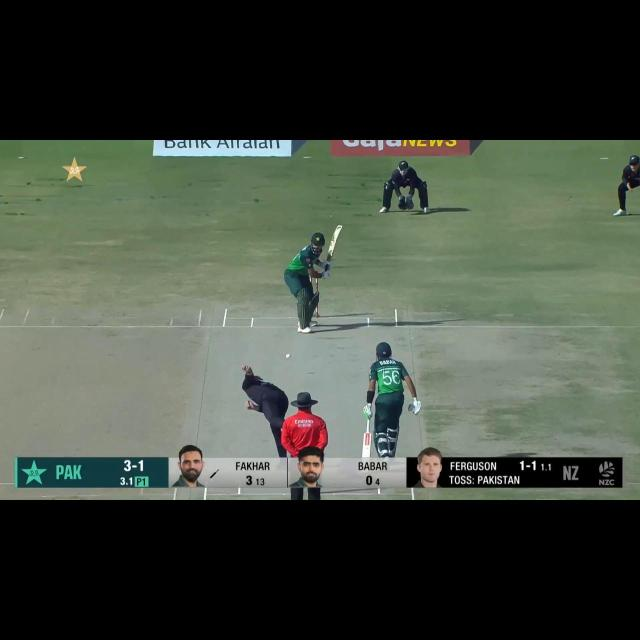bat: (327, 221, 342, 264), (362, 431, 372, 457)
toe: (337, 223, 343, 232)
